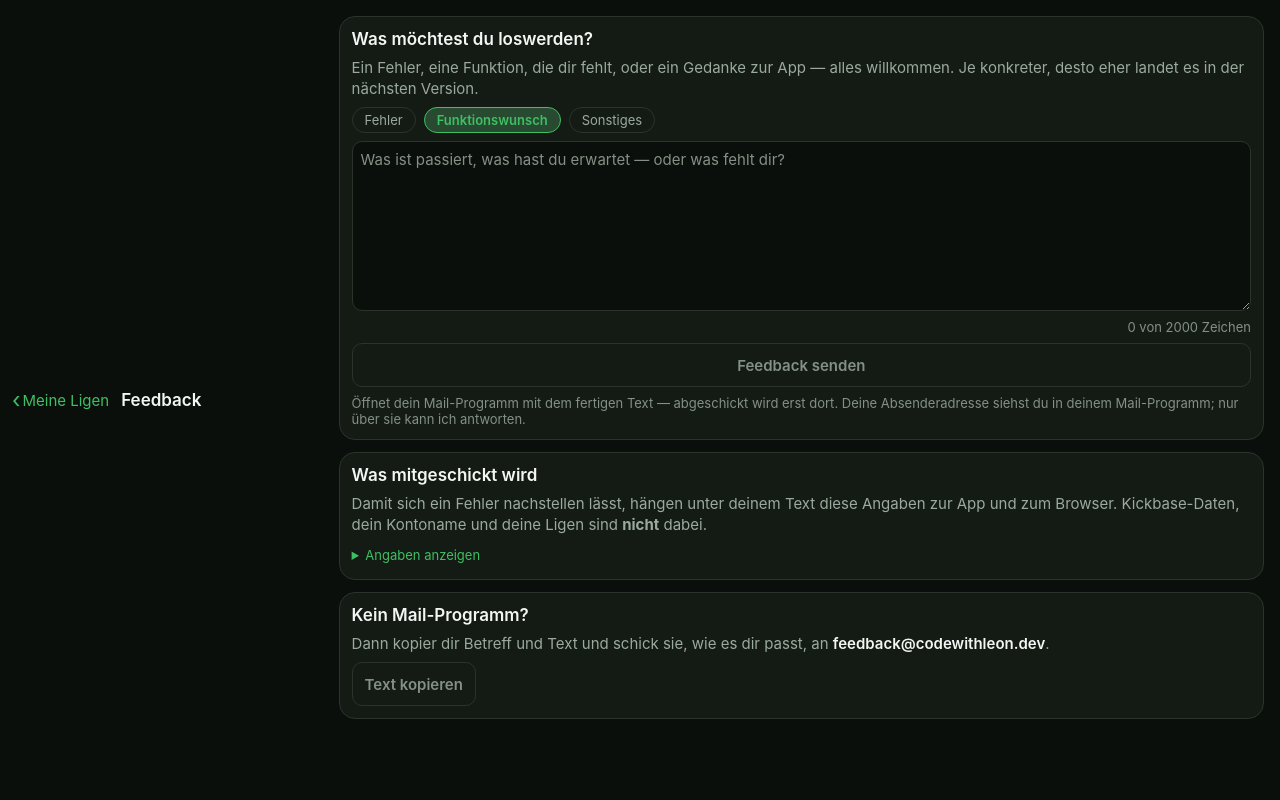
Test: FeedbackScreen › räumt das Ergebnis auch bei einem Wechsel der Kategorie weg
This screenshot has width=1280, height=800.
In the text box named "Dein Feedback": [801, 226] box [352,141,1251,311], type "Kaputt."
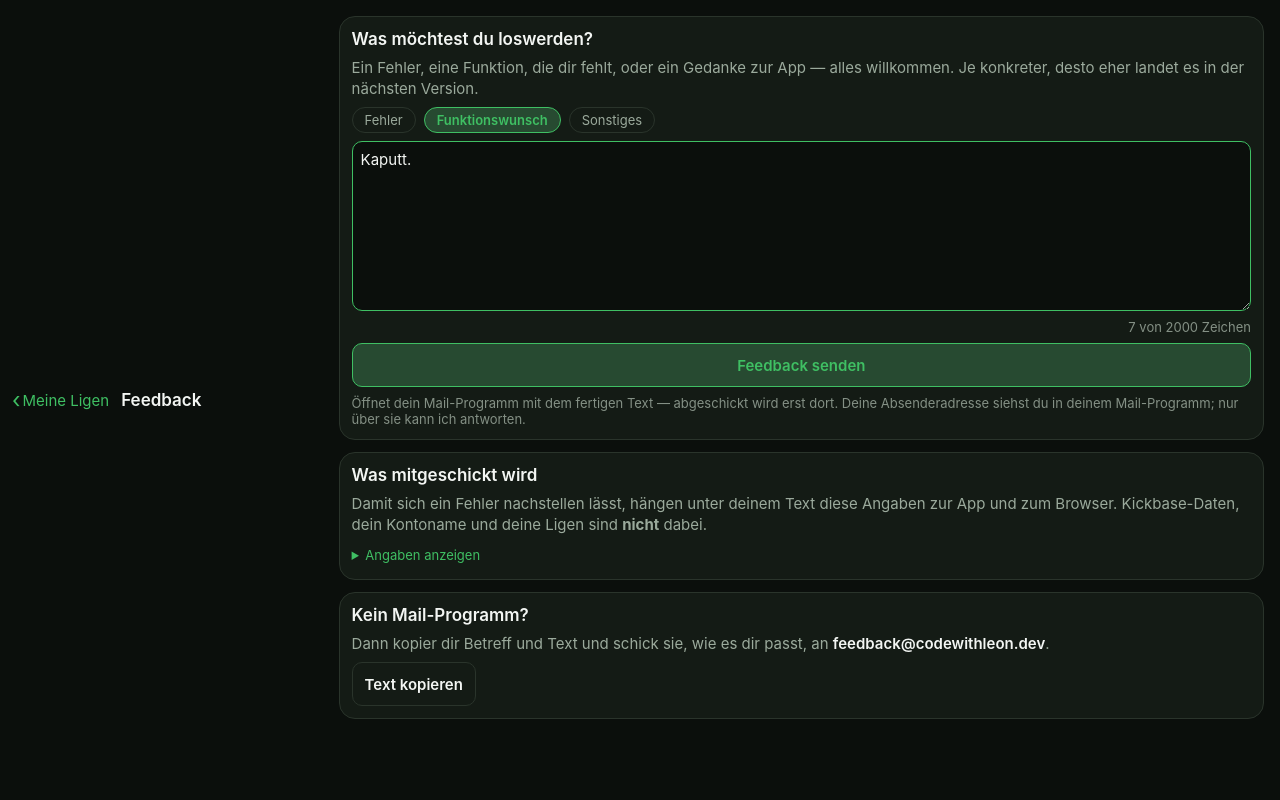
Click the button "Feedback senden": [801, 365] box [352,343,1251,387]
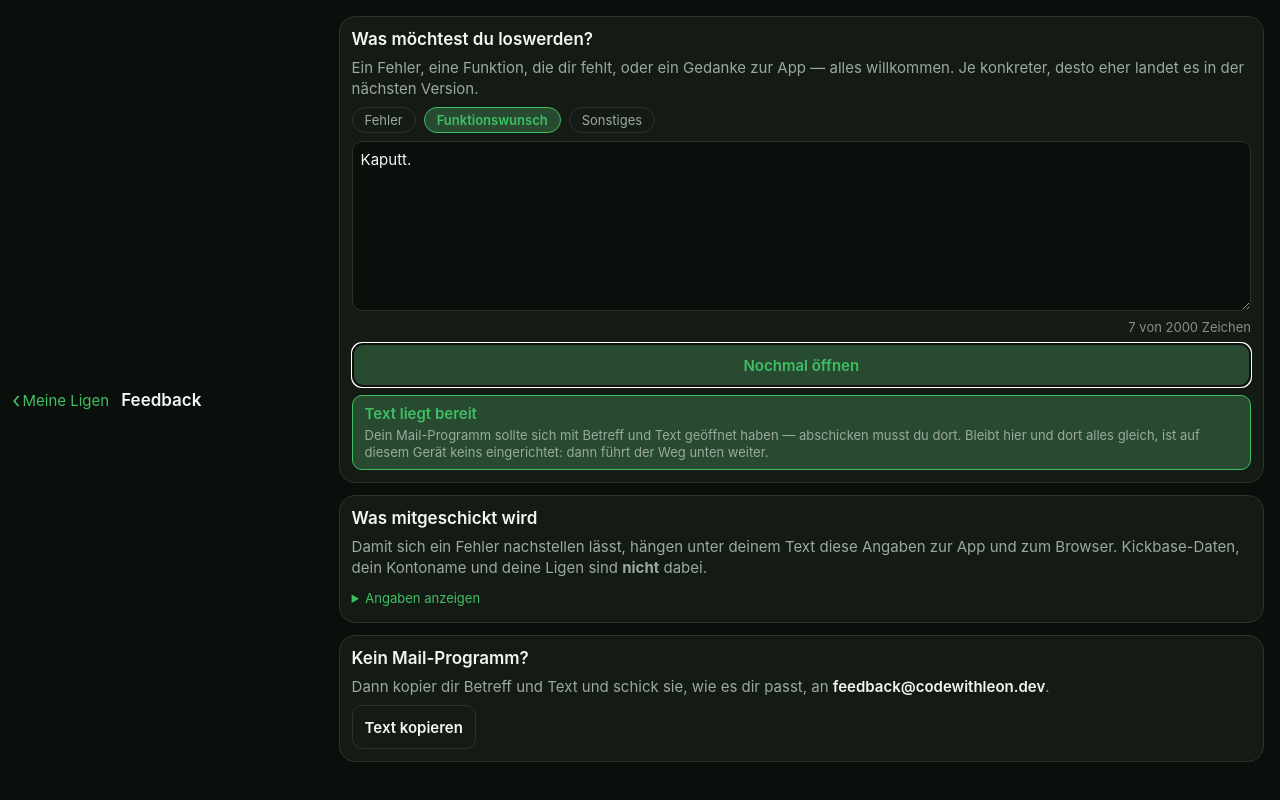
Result: the message is shown at [352,395,1251,470]
Click the button "Fehler": [384, 120] box [352,107,416,133]
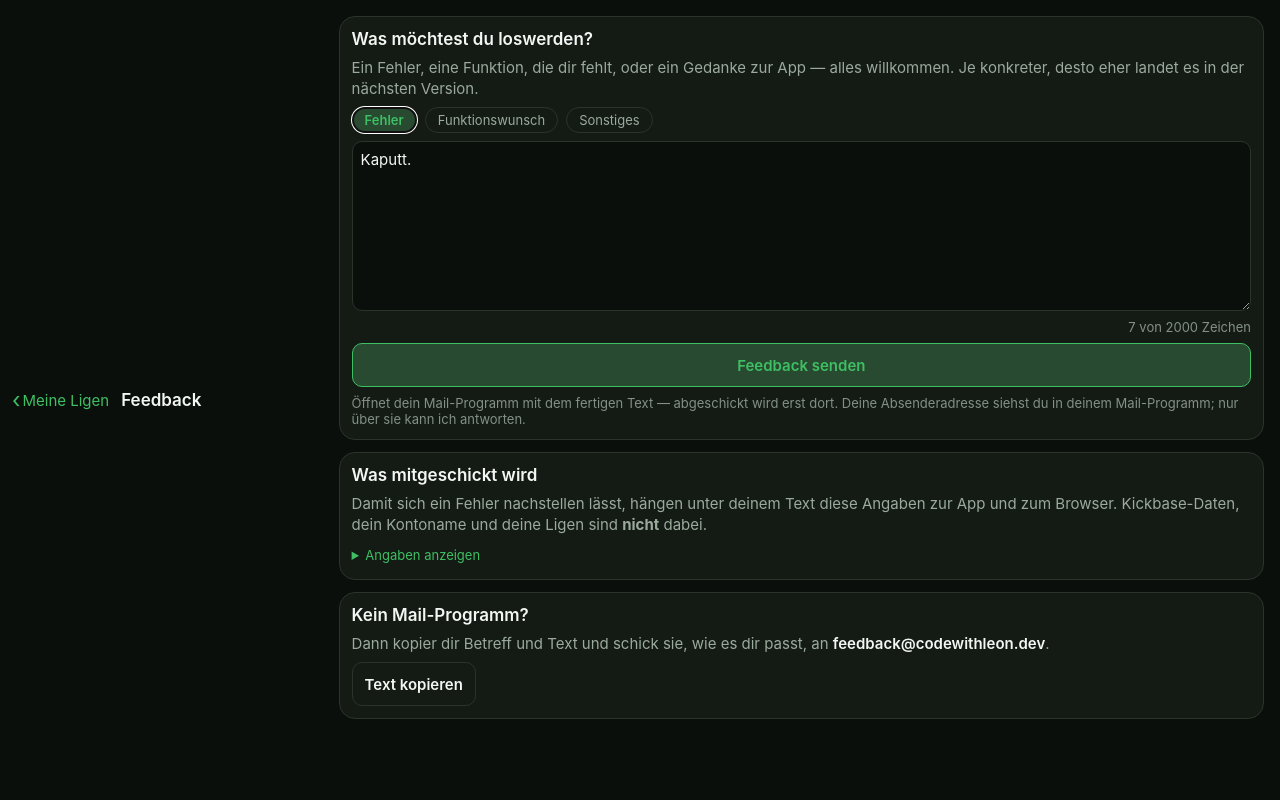
Result: the message is gone
Result: the button "Feedback senden" is shown at [352,343,1251,387]
